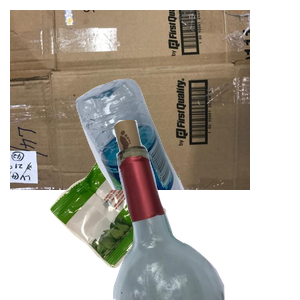cardboard: (10, 10, 250, 190)
glass: (89, 120, 300, 300)
plastic: (73, 76, 300, 256)
trash: (47, 146, 220, 300)
